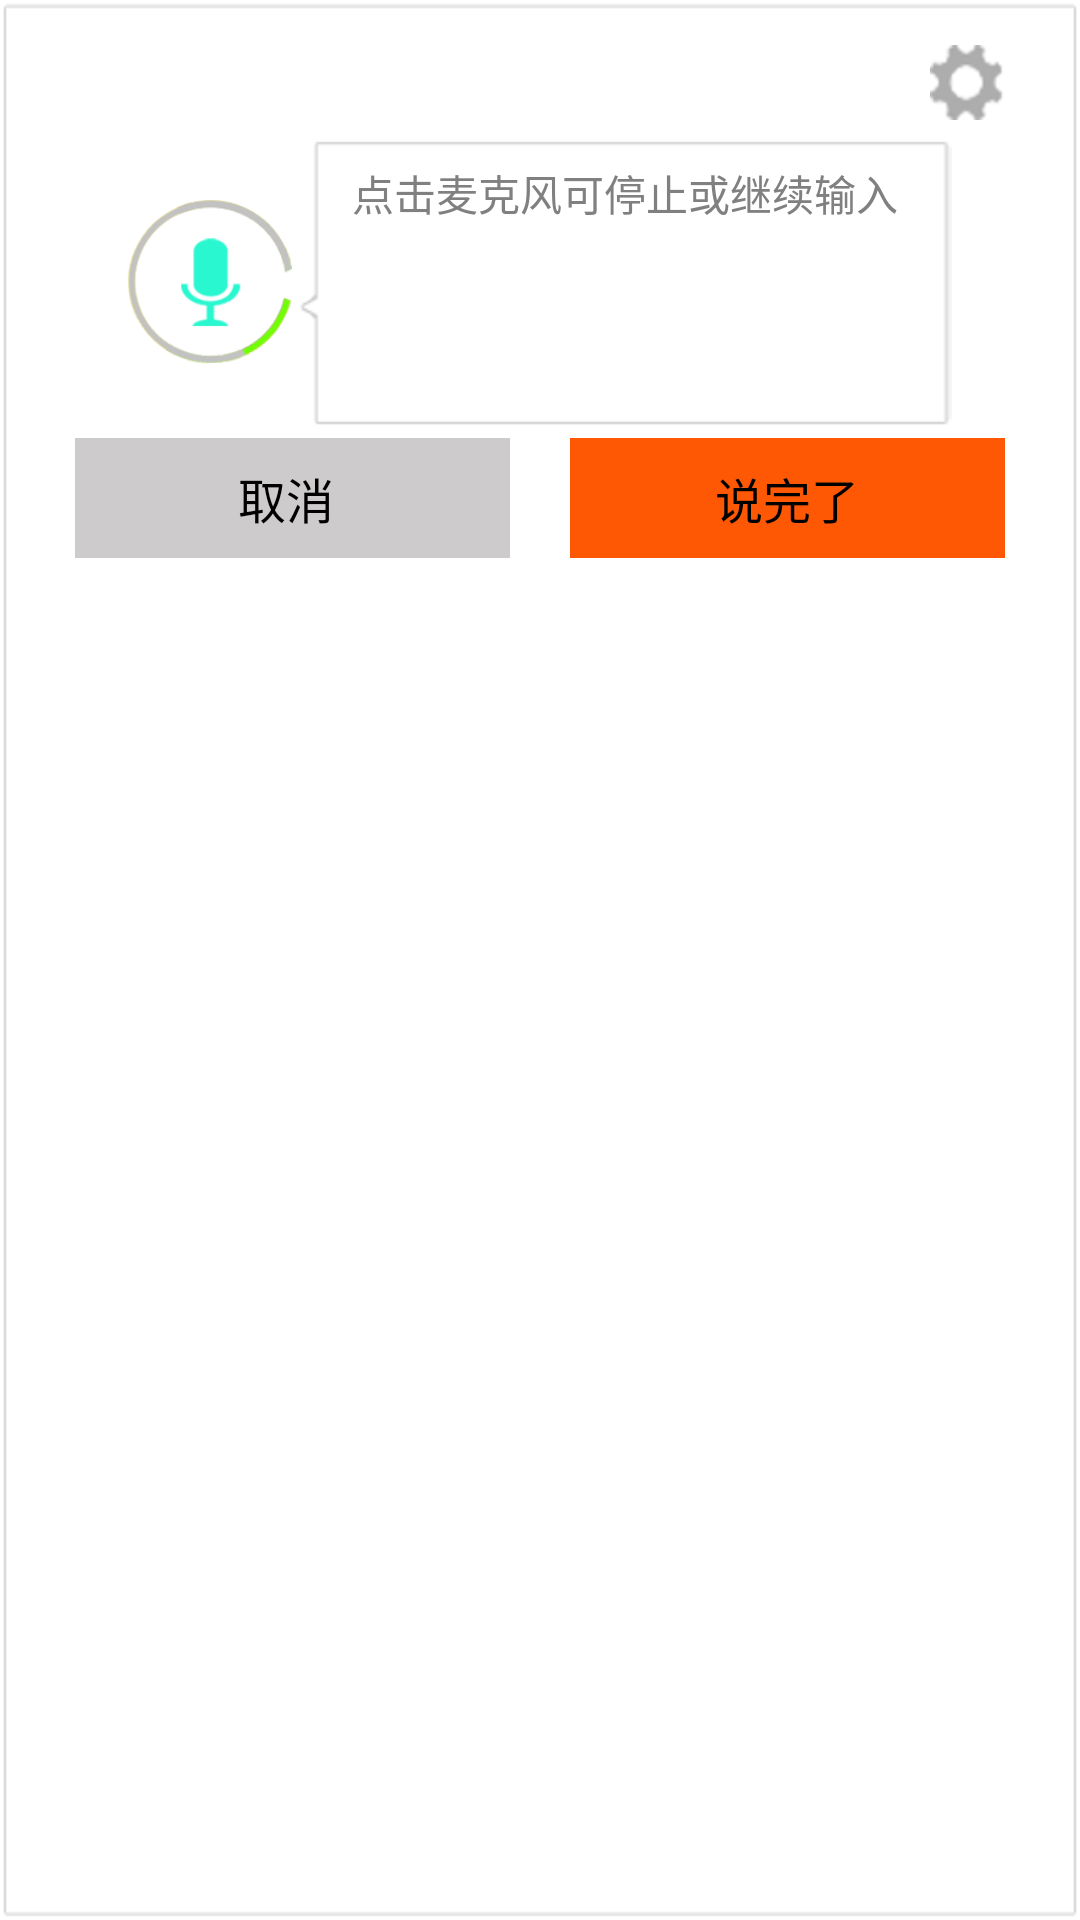

Icons on this 1080 × 1920 Android screen, each with the point to tap as [x,y]:
setting: [966,82]
